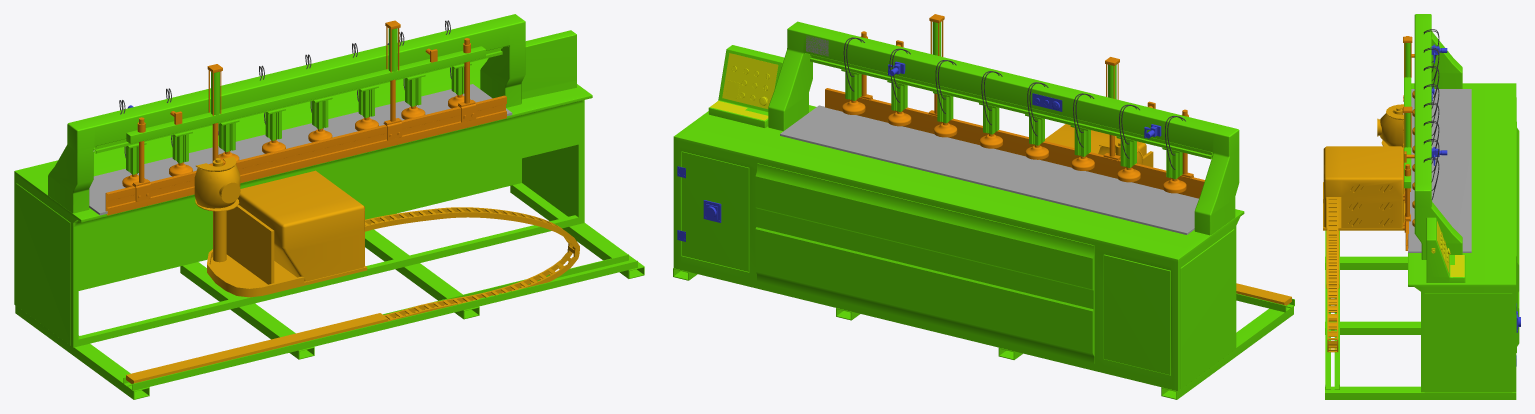
Rendered from ZhiXianJv.fbx.
3 views of the same model, side by side, from view 1: azimuth 30°, elevation 25°; view 2: azimuth 150°, elevation 25°; view 3: azimuth 270°, elevation 25° (orthographic). The views are drawn at different scales.
Parts seen in each view (by area): view 1: polySurface58, polySurface53, pCube58, polySurface35, polySurface3, pCube62, polySurface59, polySurface34, MASH1_ReproMesh, polySurface15, pCube70, pCube59 (+8 smaller); view 2: polySurface8, polySurface58, polySurface53, pCube62, polySurface6, polySurface17, polySurface3, polySurface35, polySurface27, polySurface21, pCube68, polySurface15 (+2 smaller); view 3: polySurface58, polySurface2, pCube58, pCube62, polySurface53, pCube8, MASH1_ReproMesh, polySurface15, pCube66, polySurface59, pCube67, polySurface8 (+7 smaller).
Part boxes in pixels (x1,y1,x2,y2): polySurface58: (14,58,592,347); polySurface53: (48,14,525,213); pCube58: (237,170,364,281); polySurface35: (105,95,506,215); polySurface3: (16,183,70,345); pCube62: (89,84,512,215); polySurface59: (123,254,637,390); polySurface34: (126,46,485,143); MASH1_ReproMesh: (365,207,579,321); polySurface15: (521,30,576,99); pCube70: (126,313,388,383); pCube59: (226,205,274,284); polySurface8: (755,163,1094,363); polySurface58: (673,105,1244,391); polySurface53: (768,21,1239,235); pCube62: (780,105,1198,234); polySurface6: (1104,254,1170,374); polySurface17: (682,151,749,271); polySurface3: (1180,229,1234,388); polySurface35: (825,88,1204,198); polySurface27: (810,54,1212,159); polySurface21: (722,53,778,108); pCube68: (1161,307,1293,399); polySurface15: (708,45,784,127); polySurface58: (1408,83,1516,392); polySurface2: (1424,293,1512,392); pCube58: (1323,146,1403,227); pCube62: (1408,89,1471,252); polySurface53: (1414,14,1462,259); pCube8: (1325,386,1516,399); MASH1_ReproMesh: (1327,197,1338,352); polySurface15: (1426,217,1465,282); pCube66: (1325,321,1420,334); polySurface59: (1325,230,1339,389); pCube67: (1325,256,1407,269); polySurface8: (1516,121,1519,352).
Bounding box in the file's own units: 301 × 148 × 124.
